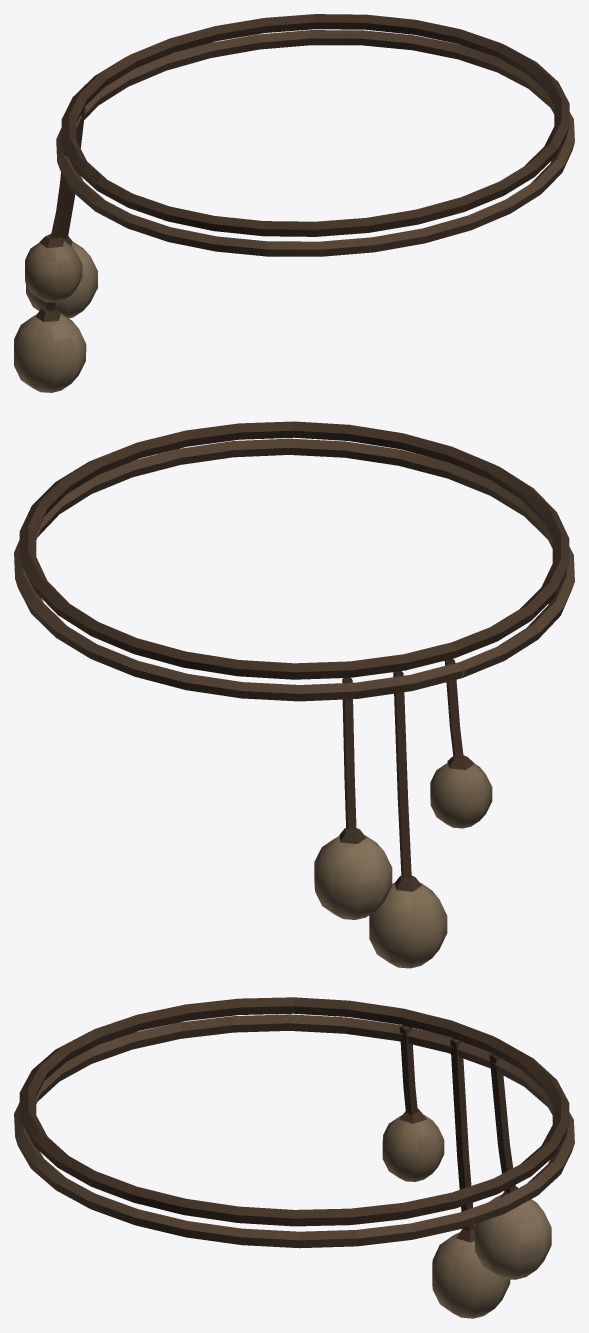
Rendered from boleadoras_al_cinto.glb.
3 renders of one model, top to bottom at view 1: azimuth 30°, elevation 25°; view 2: azimuth 150°, elevation 25°; view 3: azimuth 270°, elevation 25°, orthographic. The views are drawn at different scales.
Parts seen in each view (by area): view 1: BoleadorasAlCinto; view 2: BoleadorasAlCinto; view 3: BoleadorasAlCinto.
Boxes of the visible parts, x1,y1,x2,y2 form: BoleadorasAlCinto: (14,14,574,392); BoleadorasAlCinto: (14,421,574,968); BoleadorasAlCinto: (14,997,574,1318).
Bounding box in the file's own units: 0.4274 × 0.2619 × 0.4187.
